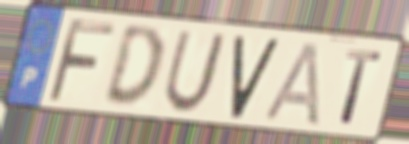A: (261, 39, 323, 129)
D: (100, 23, 165, 112)
F: (44, 15, 118, 106)
T: (338, 46, 385, 128)
U: (160, 28, 230, 116)
V: (229, 34, 283, 121)
